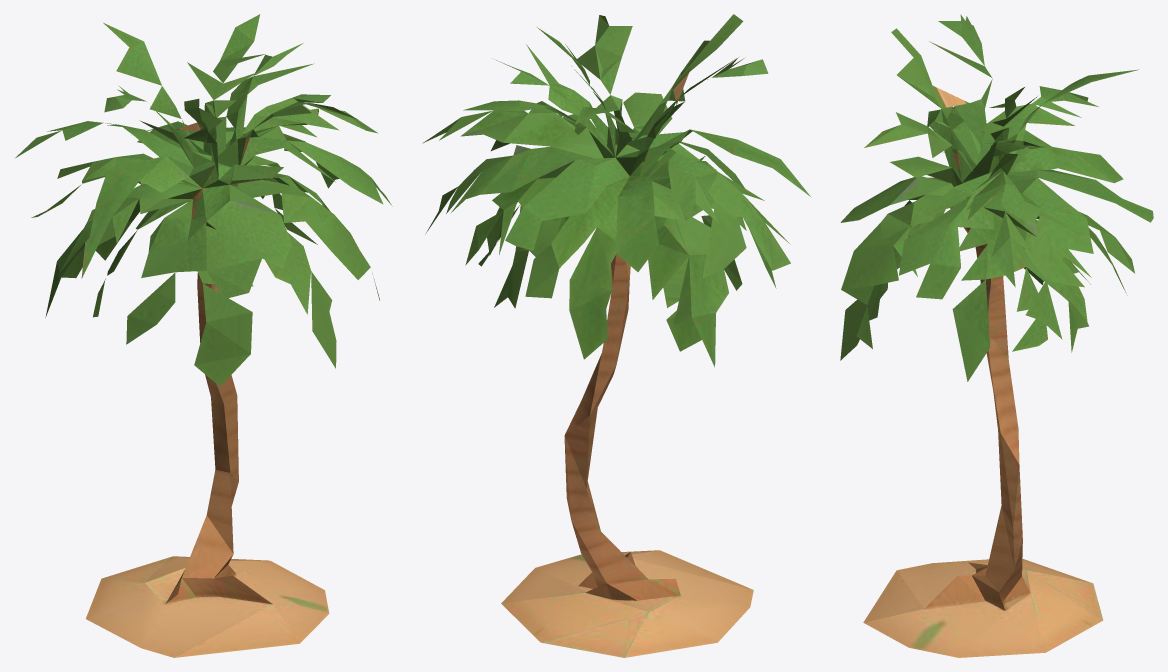
The model's file is d_tanne.glb.
3 views of the same model, side by side, from view 1: azimuth 30°, elevation 25°; view 2: azimuth 150°, elevation 25°; view 3: azimuth 270°, elevation 25° (orthographic). The views are drawn at different scales.
Size of the model in its own units: 1.18 by 1.86 by 0.9518.
1 material, 1 textured.
